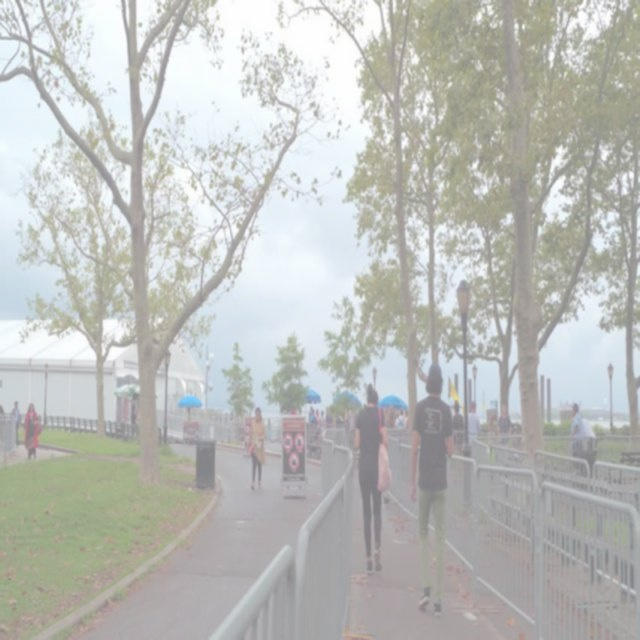pessoa: (408, 361, 456, 618), (353, 381, 393, 576), (245, 404, 267, 492), (576, 412, 598, 482), (22, 400, 43, 464), (569, 400, 584, 486), (467, 398, 483, 444), (226, 404, 248, 437), (497, 402, 512, 447), (335, 406, 357, 434), (10, 400, 22, 450), (451, 400, 464, 446), (485, 421, 498, 467), (510, 424, 520, 472), (382, 402, 399, 430), (129, 402, 139, 446), (180, 406, 192, 442), (318, 408, 326, 447), (394, 406, 406, 431), (326, 406, 334, 442), (288, 400, 302, 418), (262, 414, 273, 436), (307, 406, 315, 426), (404, 408, 411, 430), (314, 406, 320, 431), (310, 408, 317, 424), (0, 404, 6, 415)
